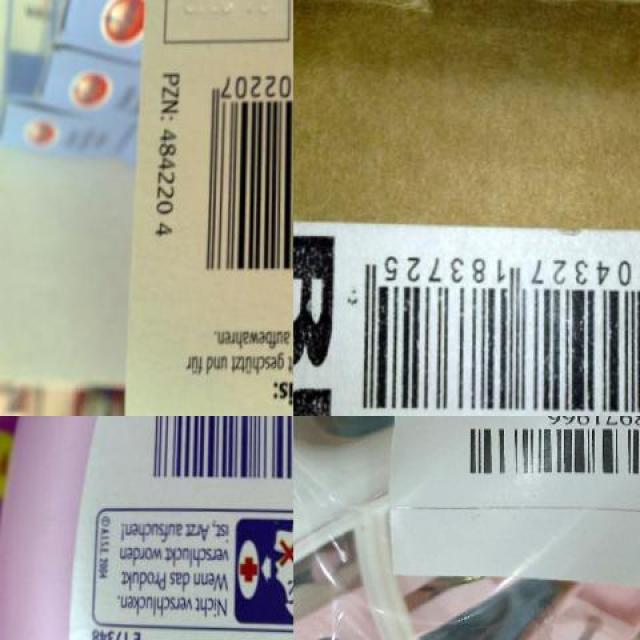Barcode: (341, 235, 640, 416), (184, 46, 293, 286), (448, 416, 640, 487), (136, 416, 293, 489)
